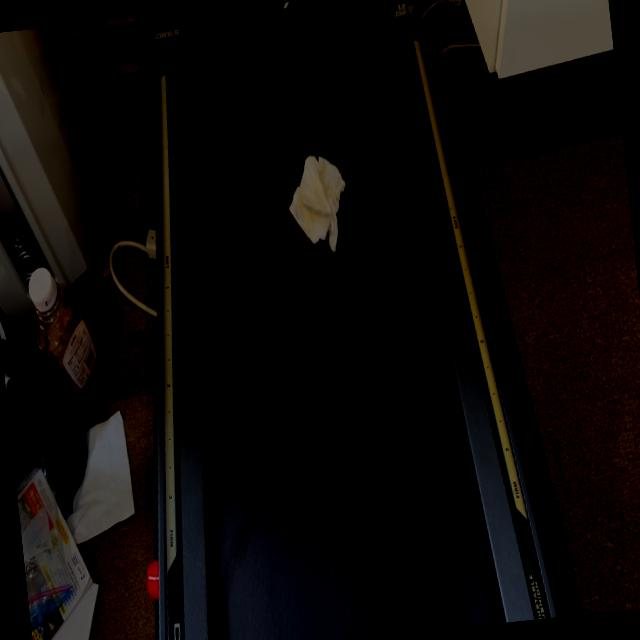Recycle: (282, 148, 354, 258)
